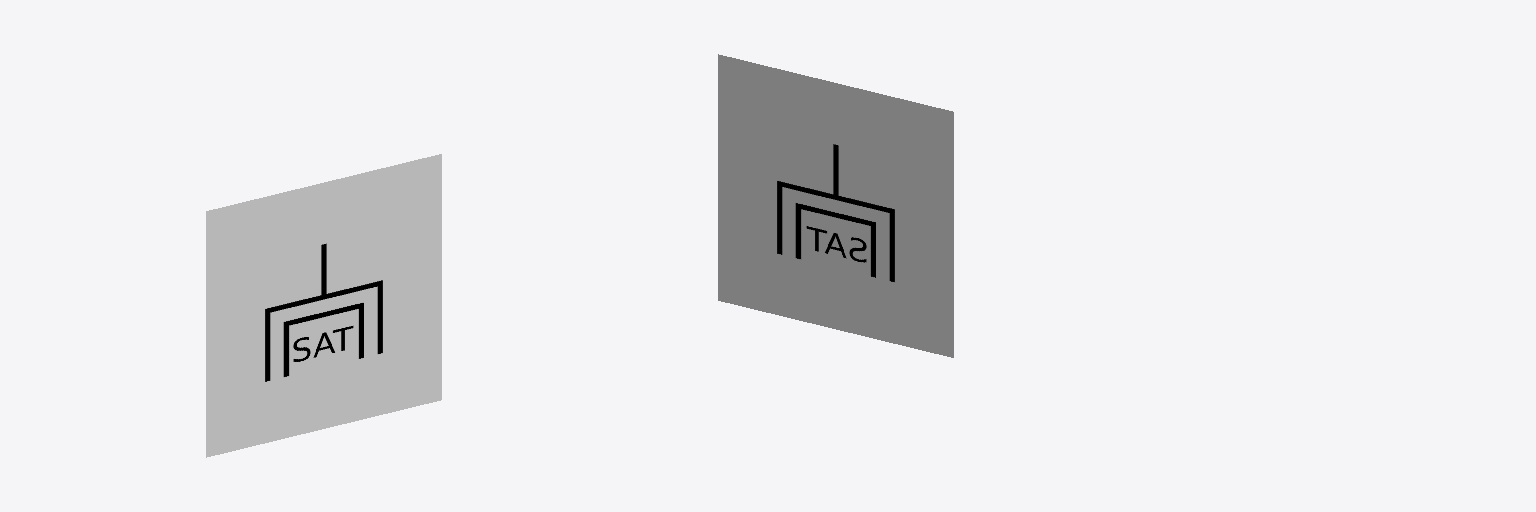
The picture shows the model from 3 angles: view 1: azimuth 30°, elevation 25°; view 2: azimuth 150°, elevation 25°; view 3: azimuth 270°, elevation 25°; orthographic projection.
Parts seen in each view (by area): view 1: Mesh; view 2: Mesh; view 3: none.
Part boxes in pixels (left/top/right/bottom): Mesh: left=206, top=154, right=441, bottom=457; Mesh: left=718, top=54, right=953, bottom=357.
Size of the model in its own units: 50 by 50 by 50.
2 materials, 2 textured.